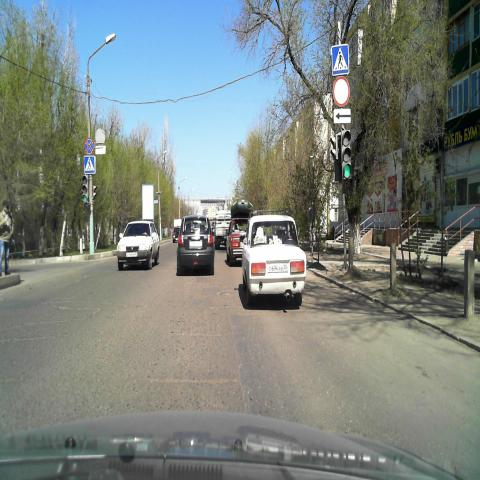3_2: (333, 78, 350, 108)
8_3_2: (333, 108, 352, 124)
